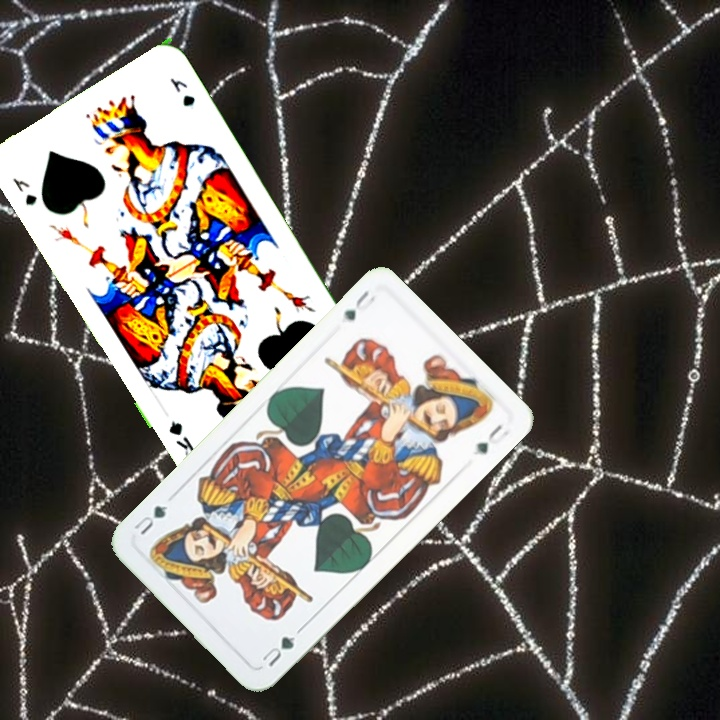GK: (8, 173, 40, 208)
GU: (256, 632, 298, 670), (340, 285, 378, 324)
